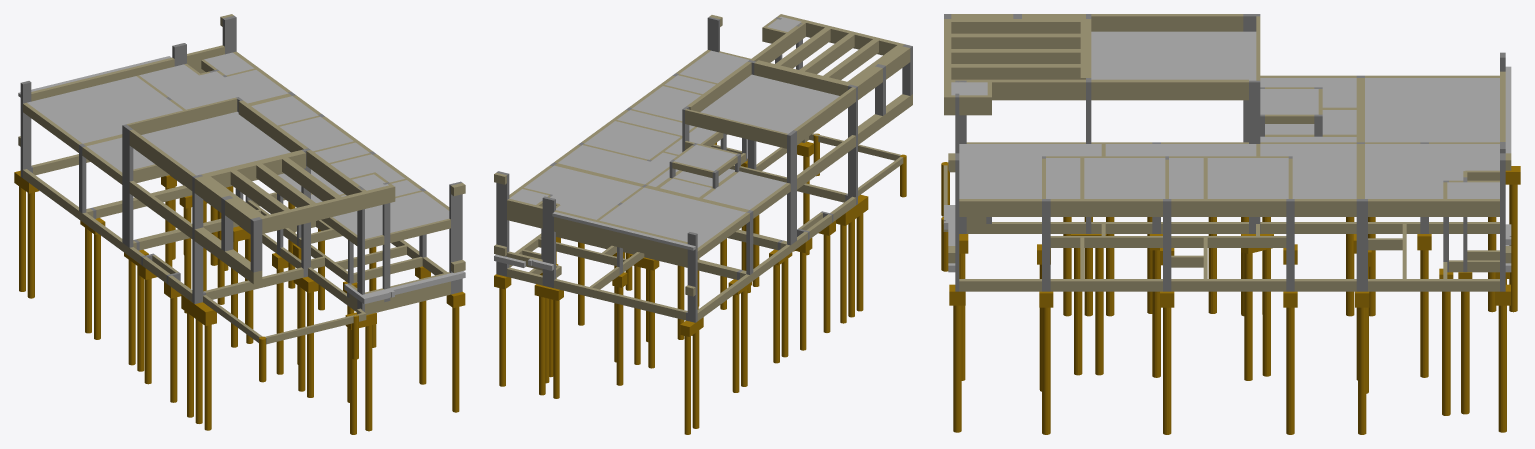
The picture shows the model from 3 angles, left to right: view 1: azimuth 30°, elevation 25°; view 2: azimuth 150°, elevation 25°; view 3: azimuth 270°, elevation 25°; orthographic projection. The views are drawn at different scales.
Parts seen in each view (by area): view 1: BALDRAME-Concrdo_i__es, COBERTURA_1-Concrdadoajes, COBERTURA_2-Concrdadoigas, BALDRAME-Concrdadoigas, COBERTURA_1-Concrdadoigas, COBERTURA_1-Concrado_ares, COBERTURA_2-Concrdadoajes, COBERTURA_2-Concrado_ares, BALDRAME-Concrado_ares; view 2: COBERTURA_1-Concrdadoajes, BALDRAME-Concrdo_i__es, COBERTURA_2-Concrdadoigas, COBERTURA_1-Concrdadoigas, BALDRAME-Concrdadoigas, COBERTURA_2-Concrdadoajes, COBERTURA_1-Concrado_ares, COBERTURA_2-Concrado_ares, BALDRAME-Concrado_ares; view 3: COBERTURA_1-Concrdadoajes, BALDRAME-Concrdo_i__es, COBERTURA_2-Concrdadoigas, BALDRAME-Concrdadoigas, COBERTURA_1-Concrdadoigas, COBERTURA_2-Concrdadoajes, COBERTURA_1-Concrado_ares, COBERTURA_2-Concrado_ares, BALDRAME-Concrado_ares.
Boxes of the visible parts, x1,y1,x2,y2 form: BALDRAME-Concrdo_i__es: (14,170,465,434); COBERTURA_1-Concrdadoajes: (18,52,465,304); COBERTURA_2-Concrdadoigas: (127,97,395,233); BALDRAME-Concrdadoigas: (23,154,450,344); COBERTURA_1-Concrdadoigas: (18,14,465,306); COBERTURA_1-Concrado_ares: (20,15,462,307); COBERTURA_2-Concrdadoajes: (141,111,388,190); COBERTURA_2-Concrado_ares: (122,97,390,272); BALDRAME-Concrado_ares: (20,166,462,311); COBERTURA_1-Concrdadoajes: (494,50,786,270); BALDRAME-Concrdo_i__es: (494,133,906,434); COBERTURA_2-Concrdadoigas: (672,14,910,178); COBERTURA_1-Concrdadoigas: (494,15,912,296); BALDRAME-Concrdadoigas: (507,133,903,320); COBERTURA_2-Concrdadoajes: (674,16,839,170); COBERTURA_1-Concrado_ares: (496,16,857,314); COBERTURA_2-Concrado_ares: (669,17,912,188); BALDRAME-Concrado_ares: (496,142,857,322); COBERTURA_1-Concrdadoajes: (944,66,1511,272); BALDRAME-Concrdo_i__es: (941,162,1520,434); COBERTURA_2-Concrdadoigas: (944,14,1322,123); BALDRAME-Concrdadoigas: (943,165,1499,291); COBERTURA_1-Concrdadoigas: (948,71,1511,263); COBERTURA_2-Concrdadoajes: (951,31,1318,114); COBERTURA_1-Concrado_ares: (955,52,1505,281); COBERTURA_2-Concrado_ares: (944,14,1322,153); BALDRAME-Concrado_ares: (955,224,1505,291).
Bounding box in the file's own units: 1063 × 1155 × 2039.
